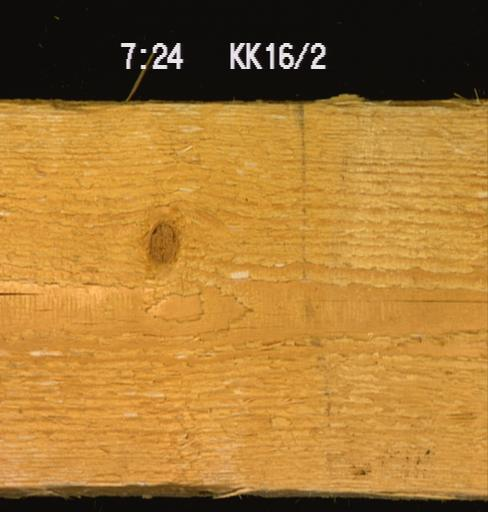sound_knot: (144, 218, 181, 267)
split: (0, 279, 56, 299)
wave: (7, 473, 252, 498)
